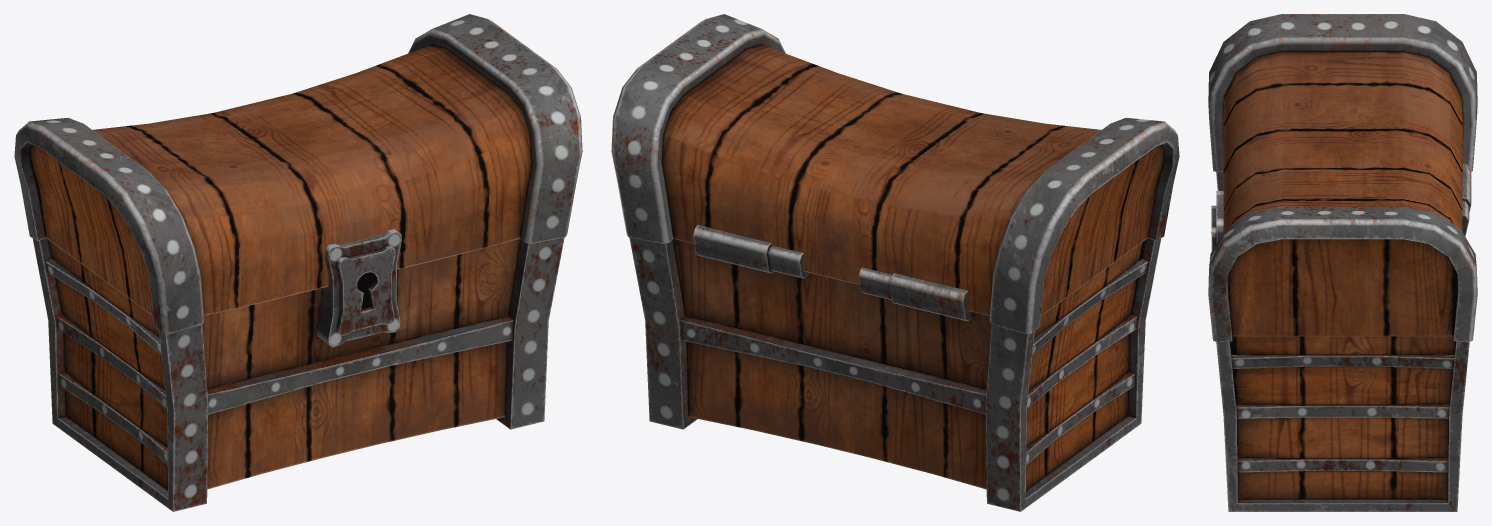
The model's file is Chest.glb.
The picture shows the model from 3 angles, left to right: view 1: azimuth 30°, elevation 25°; view 2: azimuth 150°, elevation 25°; view 3: azimuth 270°, elevation 25°; orthographic projection. The views are drawn at different scales.
Parts seen in each view (by area): view 1: Chest lid, Chest base; view 2: Chest lid, Chest base; view 3: Chest lid, Chest base.
Boxes of the visible parts, left/top/right/bottom form: Chest lid: left=14, top=14, right=582, bottom=334; Chest base: left=32, top=228, right=564, bottom=511; Chest lid: left=611, top=14, right=1179, bottom=334; Chest base: left=629, top=225, right=1161, bottom=511; Chest lid: left=1208, top=14, right=1477, bottom=342; Chest base: left=1211, top=164, right=1471, bottom=511.
Size of the model in its own units: 4.76 by 3.25 by 2.56.
Materials: 1 (1 with a texture image).
